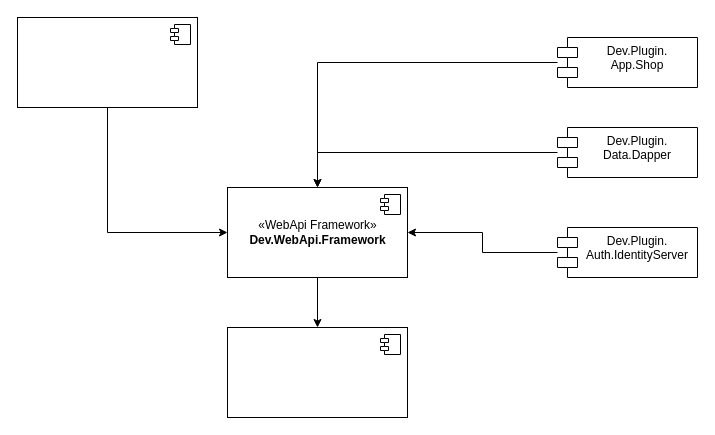
Image size: 715x435. Some labels were removed from this diagram. Each missing label, with the centre of its shape:
«Core» Dev: point 317,372
«WebApi» Dev.WebApi: point 107,62
